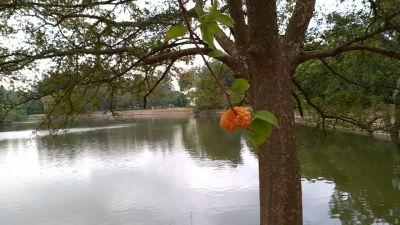eggs: (218, 104, 255, 132)
